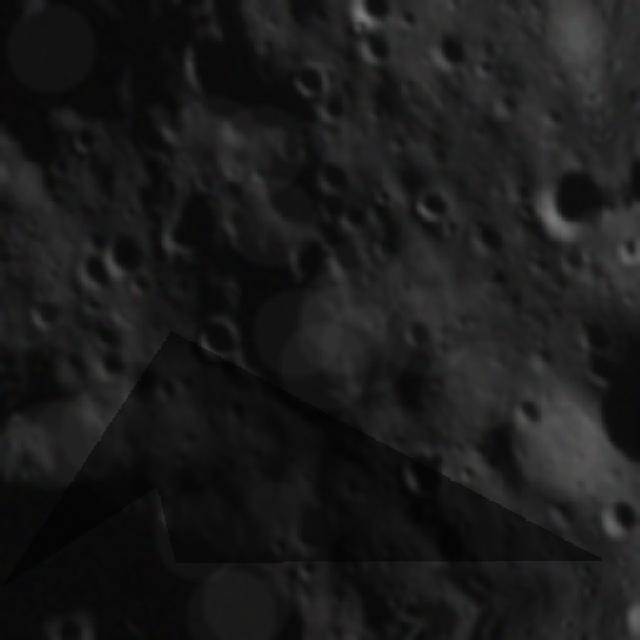crater: (242, 143, 343, 242), (522, 148, 622, 247), (144, 175, 231, 268), (182, 302, 249, 372), (388, 438, 454, 507), (584, 482, 640, 554), (277, 492, 338, 558), (102, 220, 162, 282), (459, 207, 518, 265), (278, 49, 336, 106), (566, 305, 620, 363), (309, 144, 360, 196), (347, 24, 396, 78), (419, 24, 468, 76), (19, 288, 70, 335), (406, 179, 454, 227), (391, 307, 446, 348), (70, 247, 116, 296), (501, 389, 545, 436), (63, 116, 106, 164), (92, 342, 137, 386), (342, 0, 401, 31), (452, 454, 480, 486), (0, 231, 14, 267), (423, 0, 469, 5), (0, 193, 5, 238)
